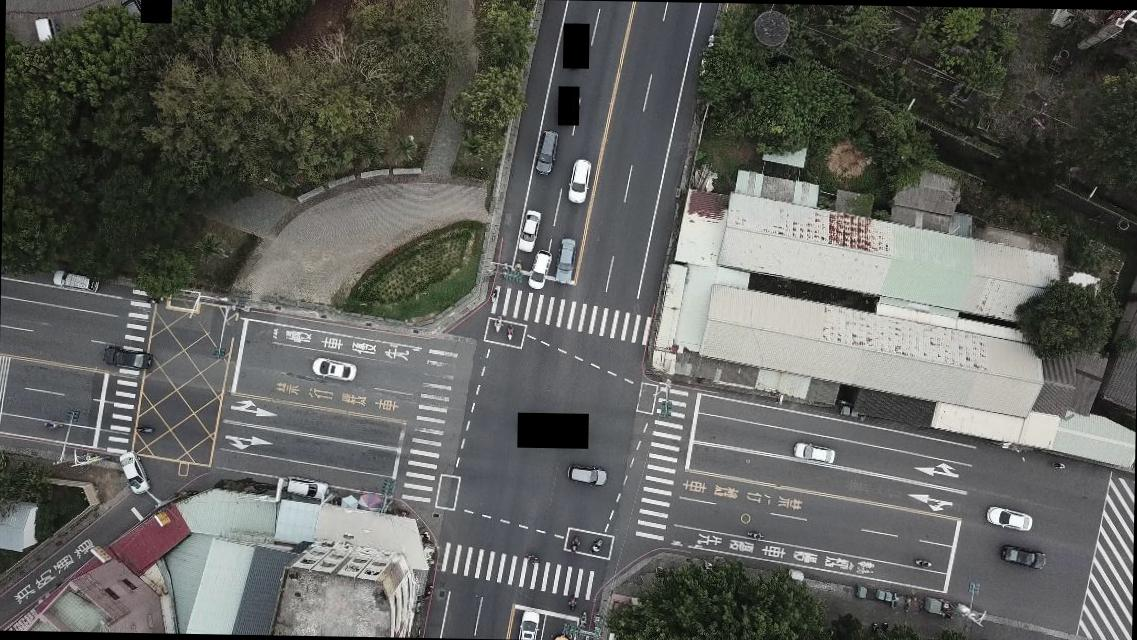vehicle: (114, 449, 150, 497), (275, 475, 328, 504), (50, 268, 101, 294), (102, 345, 152, 371), (311, 358, 361, 384), (1001, 544, 1046, 572), (985, 506, 1032, 532), (790, 439, 835, 466), (532, 130, 558, 176), (554, 236, 578, 285), (566, 462, 610, 488), (526, 250, 552, 294), (516, 210, 543, 252), (567, 158, 591, 205), (30, 13, 58, 50), (120, 0, 147, 29)
